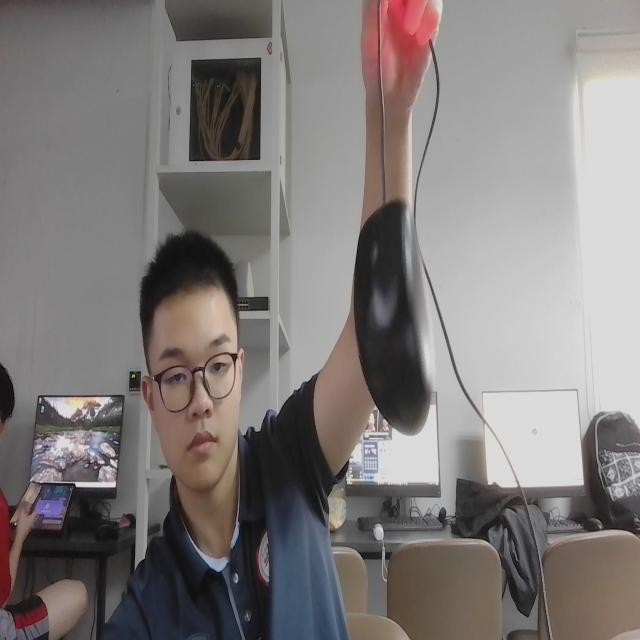mouse: (350, 190, 438, 445)
